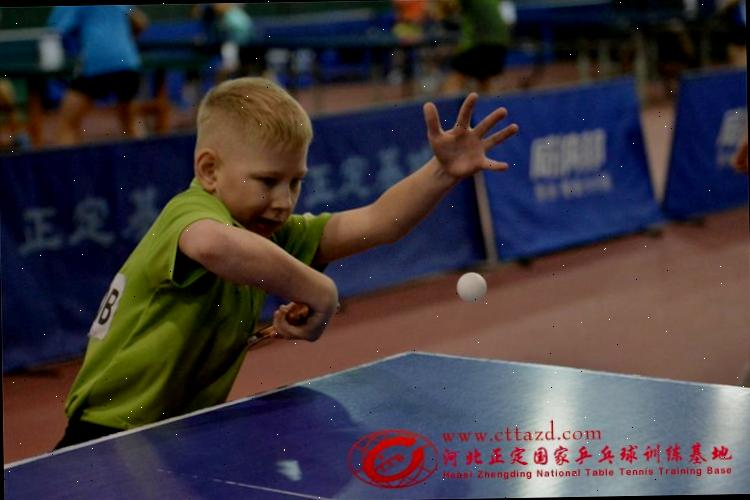ball: (450, 267, 493, 306)
